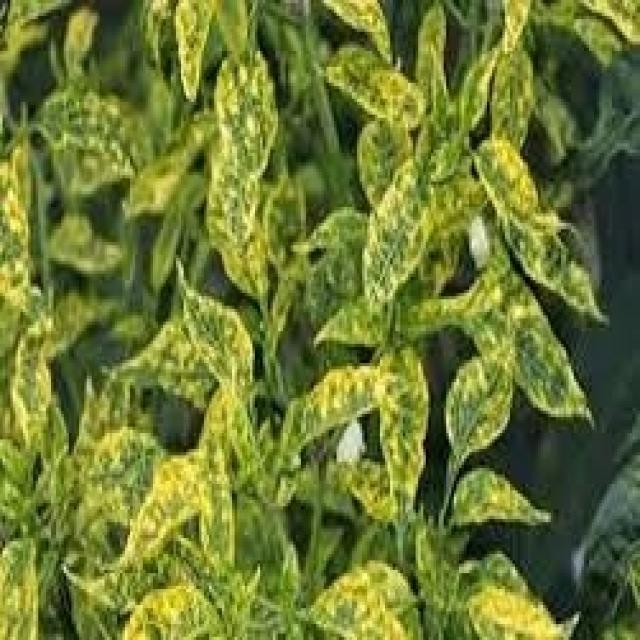virus_kuning: (343, 134, 447, 312), (172, 277, 260, 414), (289, 352, 402, 439)
